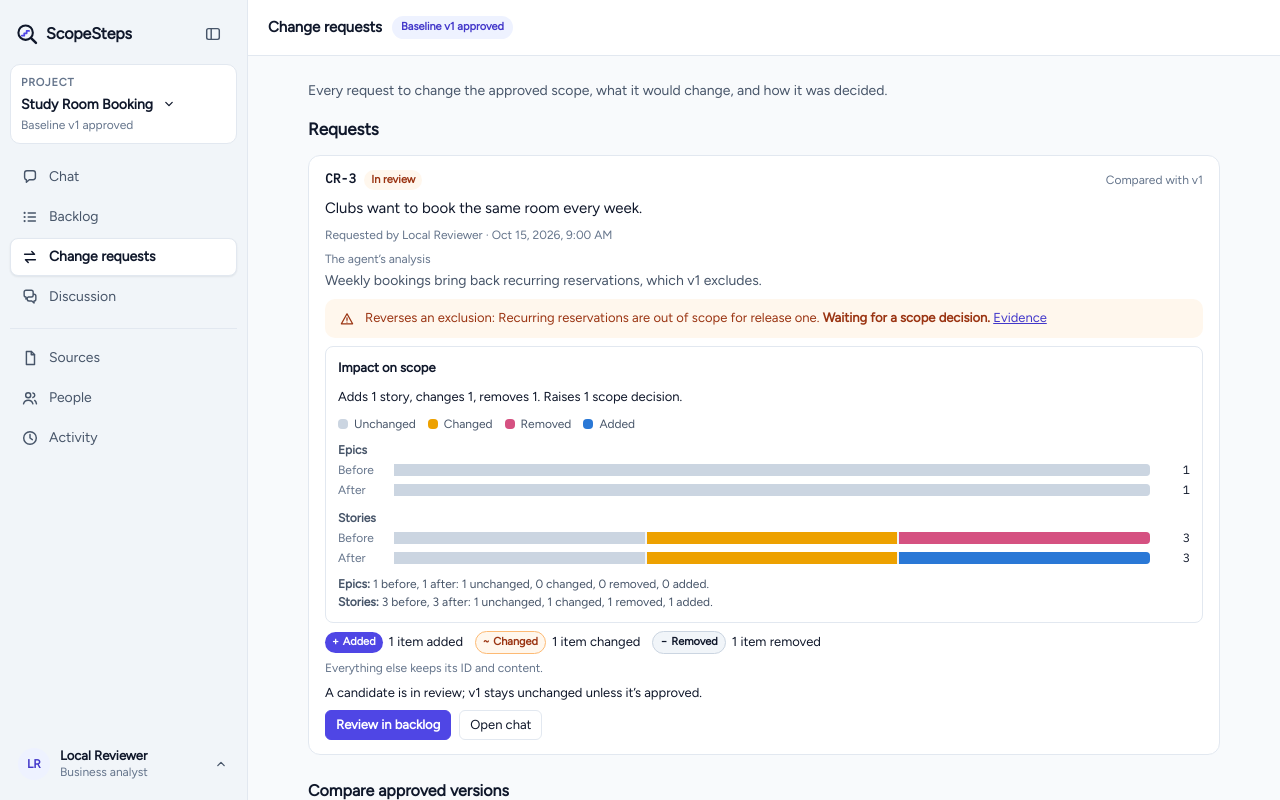
Test: The list of change requests › warns of the exclusion a candidate reverses and opens its evidence in the sheet
The image size is (1280, 800).
Check: the list item "Reverses an exclusion: Recurring reservations are out of scope" is shown, box [365,310,1047,325]
Check: the text "Waiting for a scope decision." is shown, box [823,310,990,325]
Click the link named "Evidence for: Recurring reservations are out of scope for release one.".
click(1020, 318)  # box [993,310,1047,325]
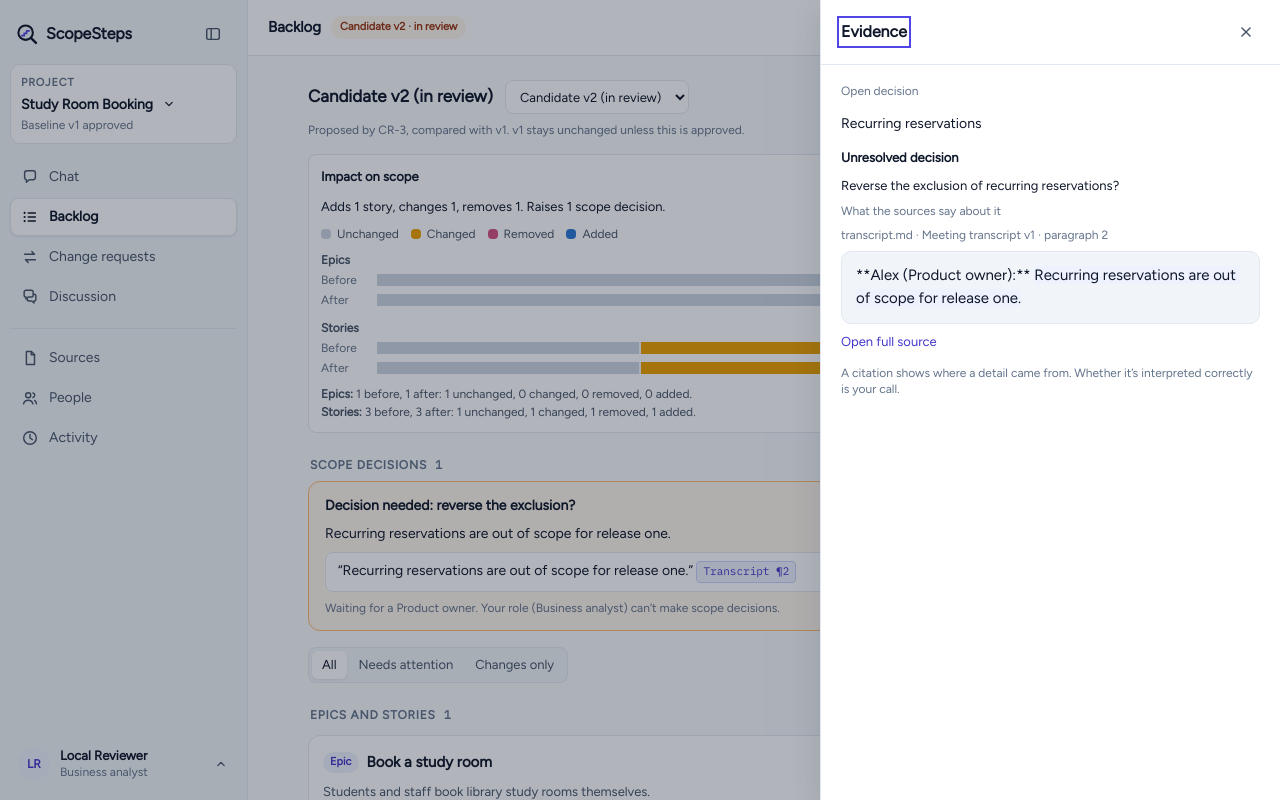
Check: the text "Recurring reservations" is shown, box [841,115,982,132]
Check: the text "Recurring reservations are out of scope for release one." is shown, box [856,266,1240,307]
